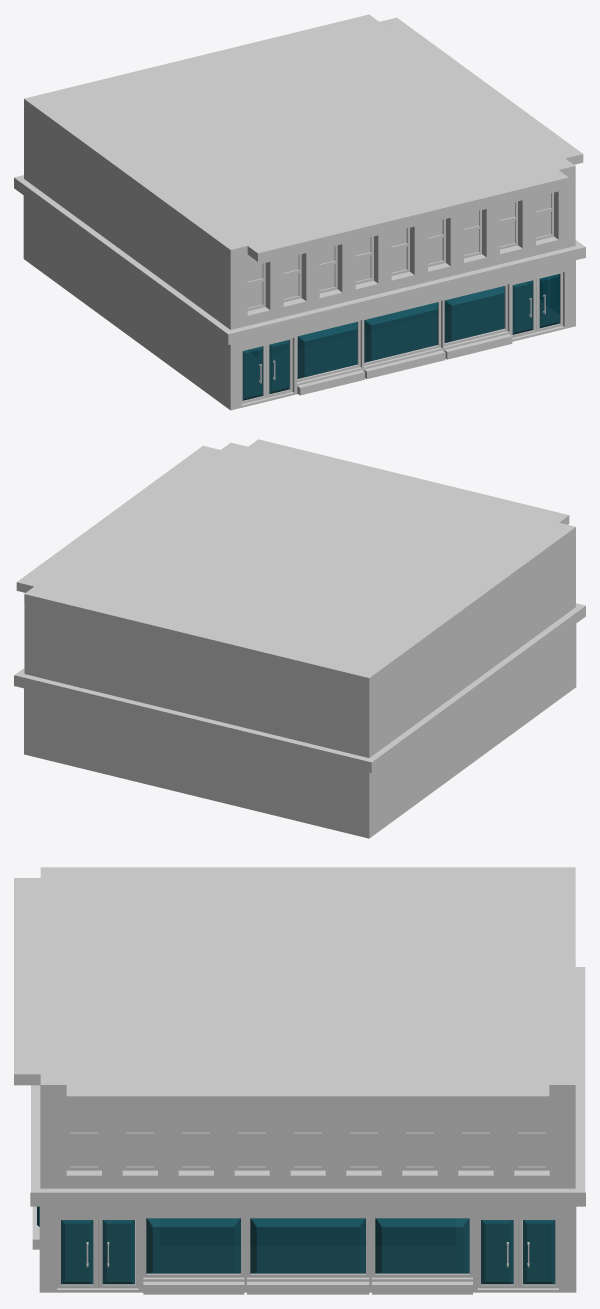
File: building_office_01_base_corner.fbx
The picture shows the model from 3 angles, top to bottom: view 1: azimuth 30°, elevation 25°; view 2: azimuth 150°, elevation 25°; view 3: azimuth 270°, elevation 25°; orthographic projection. The views are drawn at different scales.
Parts seen in each view (by area): view 1: building_office_01_base_corner, building_office_01_base_corner_glass; view 2: building_office_01_base_corner; view 3: building_office_01_base_corner, building_office_01_base_corner_glass.
Boxes of the visible parts, bbox=[...] form: building_office_01_base_corner: bbox=[14, 14, 585, 410]; building_office_01_base_corner_glass: bbox=[242, 274, 559, 400]; building_office_01_base_corner: bbox=[14, 439, 585, 838]; building_office_01_base_corner: bbox=[14, 867, 585, 1294]; building_office_01_base_corner_glass: bbox=[37, 1206, 555, 1284].
Size of the model in its own units: 1925 by 800 by 1997.
